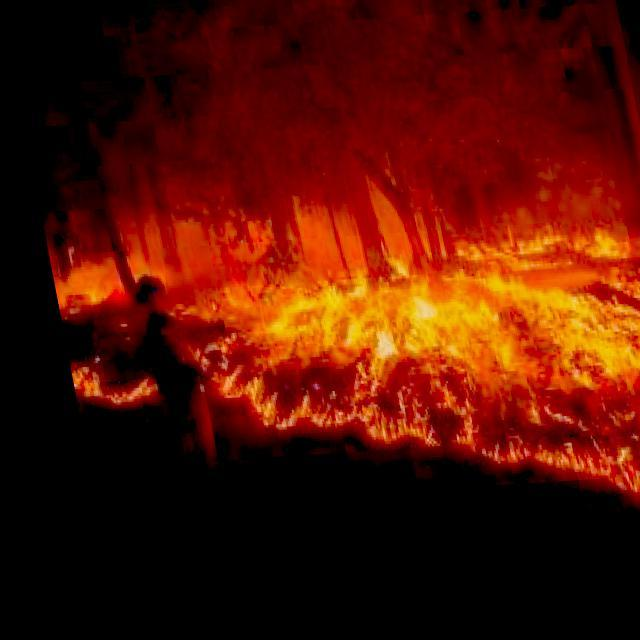Fire: (39, 161, 639, 541)
